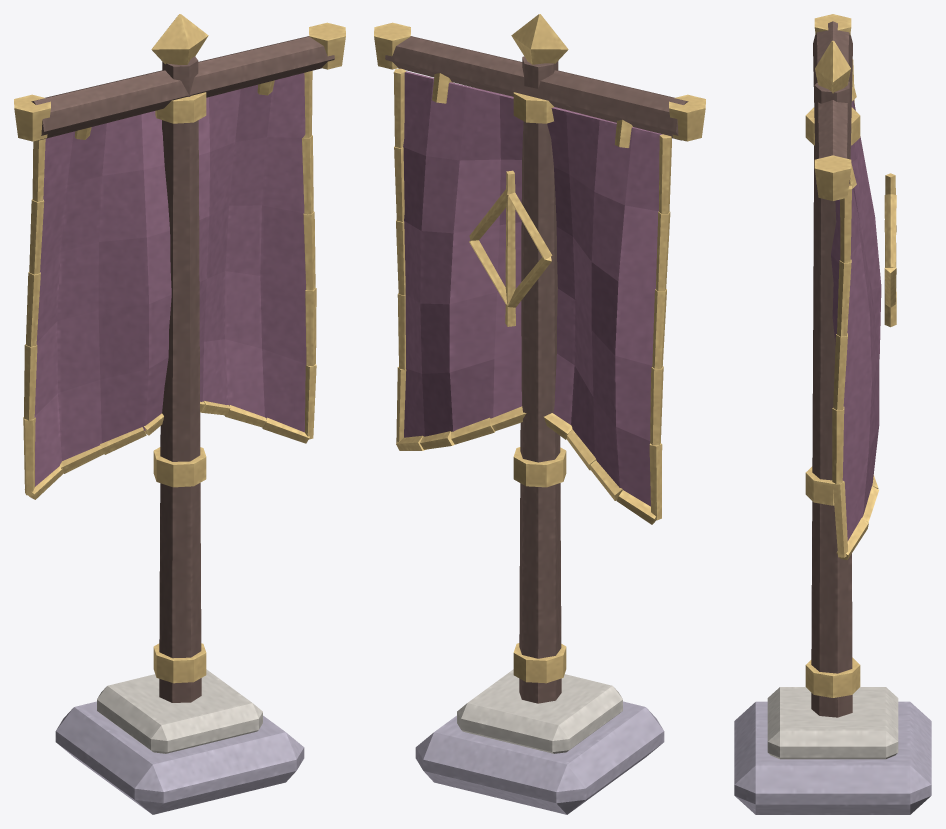
Rendered from banner.glb.
3 views of the same model, side by side, from view 1: azimuth 30°, elevation 25°; view 2: azimuth 150°, elevation 25°; view 3: azimuth 270°, elevation 25° (orthographic).
Visible parts, largest first — view 1: BillowingSwallowtail, ThickMast, CarvedFoot, Yard, FootCap, SpearFinial, MastBindings.001, MastBindings, YardEnd, MastBindings.002, YardEnd.001, SideHem.003 (+8 smaller); view 2: BillowingSwallowtail, ThickMast, CarvedFoot, Yard, FootCap, SpearFinial, MastBindings.001, MastBindings, BannerSigil4, YardEnd, YardEnd.001, MastBindings.002 (+14 smaller); view 3: CarvedFoot, ThickMast, BillowingSwallowtail, FootCap, Yard, MastBindings, YardEnd.001, SpearFinial, SideHem.006, SideHem.007, SideHem.009, SideHem.008 (+8 smaller).
Part boxes in pixels (x1,y1,x2,y2): BillowingSwallowtail: [34, 73, 306, 486]; ThickMast: [159, 56, 201, 702]; CarvedFoot: [55, 701, 304, 814]; Yard: [31, 36, 334, 140]; FootCap: [97, 669, 262, 753]; SpearFinial: [151, 14, 208, 64]; MastBindings.001: [153, 447, 206, 487]; MastBindings: [153, 643, 206, 683]; YardEnd: [14, 94, 50, 141]; MastBindings.002: [155, 92, 206, 123]; YardEnd.001: [309, 22, 345, 69]; SideHem.003: [24, 344, 37, 420]; BillowingSwallowtail: [403, 71, 662, 506]; ThickMast: [519, 56, 561, 703]; CarvedFoot: [415, 701, 664, 814]; Yard: [385, 36, 688, 140]; FootCap: [457, 669, 622, 753]; SpearFinial: [511, 14, 568, 64]; MastBindings.001: [513, 447, 566, 487]; MastBindings: [513, 643, 566, 683]; BannerSigil4: [505, 170, 515, 326]; YardEnd: [669, 94, 705, 141]; YardEnd.001: [374, 22, 410, 69]; MastBindings.002: [513, 92, 553, 123]; CarvedFoot: [734, 701, 931, 814]; ThickMast: [811, 81, 852, 717]; BillowingSwallowtail: [831, 100, 881, 540]; FootCap: [767, 687, 898, 759]; Yard: [813, 21, 852, 183]; MastBindings: [805, 657, 860, 697]; YardEnd.001: [814, 155, 851, 200]; SpearFinial: [815, 40, 850, 93]; SideHem.006: [837, 259, 851, 336]; SideHem.007: [833, 333, 847, 410]; SideHem.009: [832, 481, 847, 557]; SideHem.008: [832, 407, 844, 483].
Bounding box in the file's own units: 1.24 × 2.7 × 0.65.
Materials: 5 (5 with a texture image).
